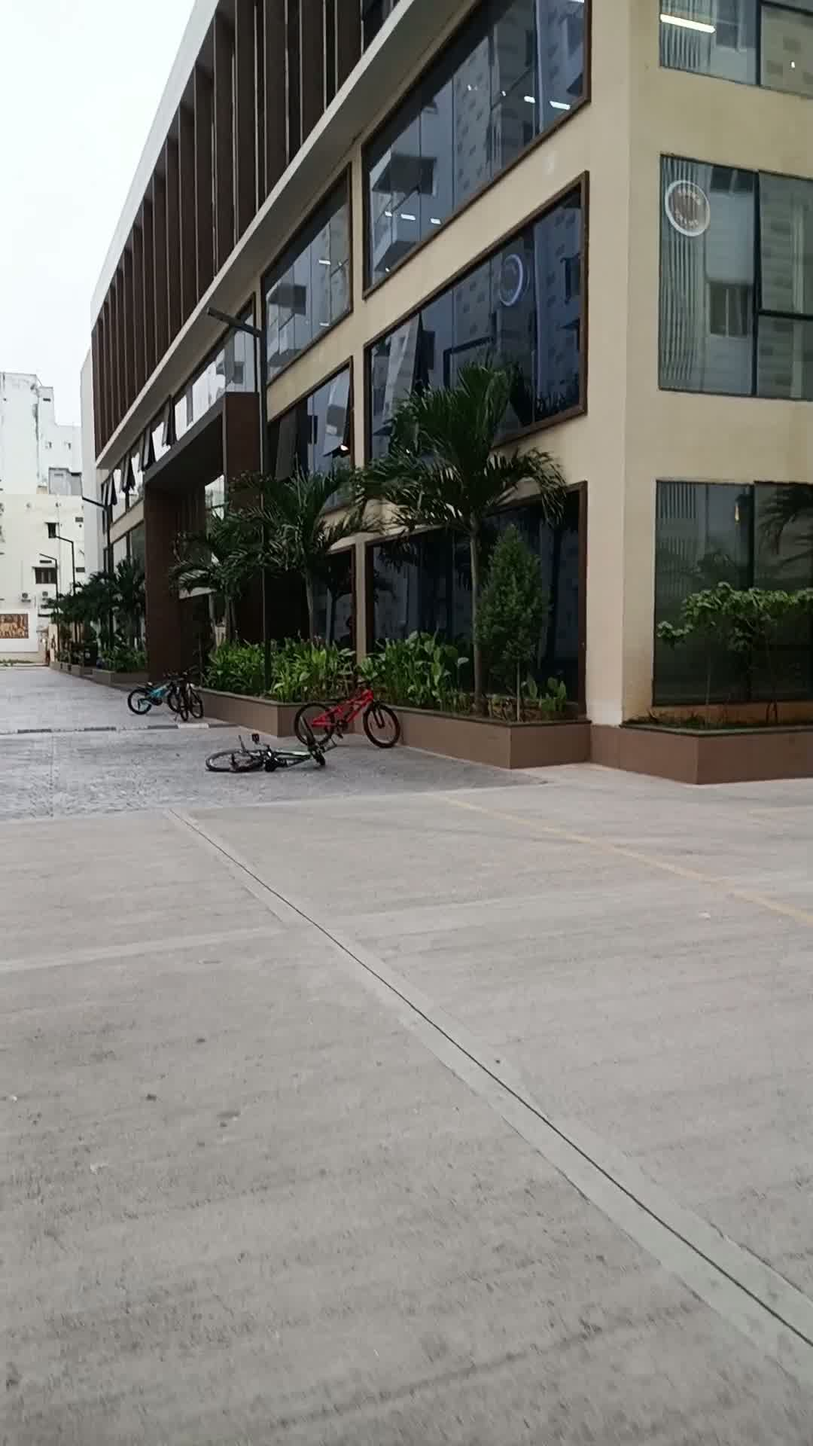bicycle: (197, 723, 338, 806), (286, 661, 417, 750), (124, 657, 210, 750)
tree: (381, 350, 555, 702), (236, 454, 369, 681), (169, 504, 266, 674), (97, 547, 160, 668), (34, 559, 105, 659)
